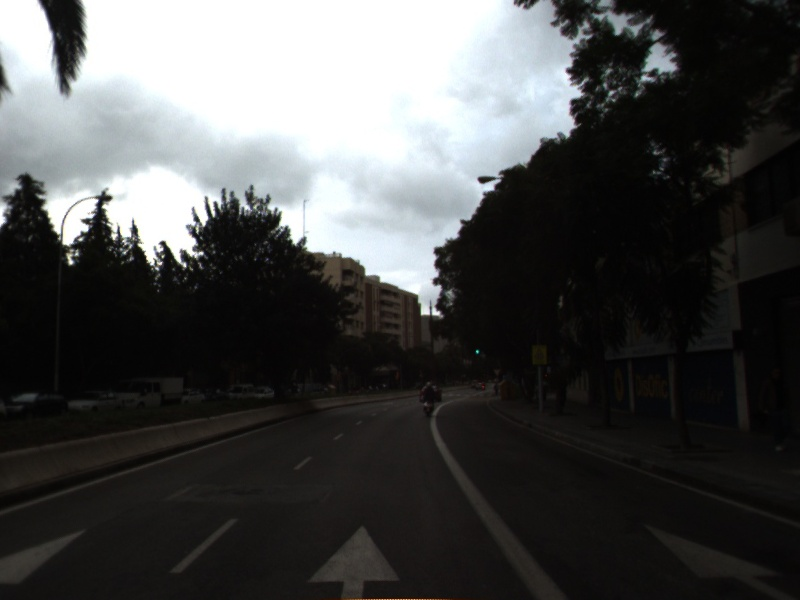STRAIGHT: (639, 518, 798, 600), (303, 521, 407, 600)
